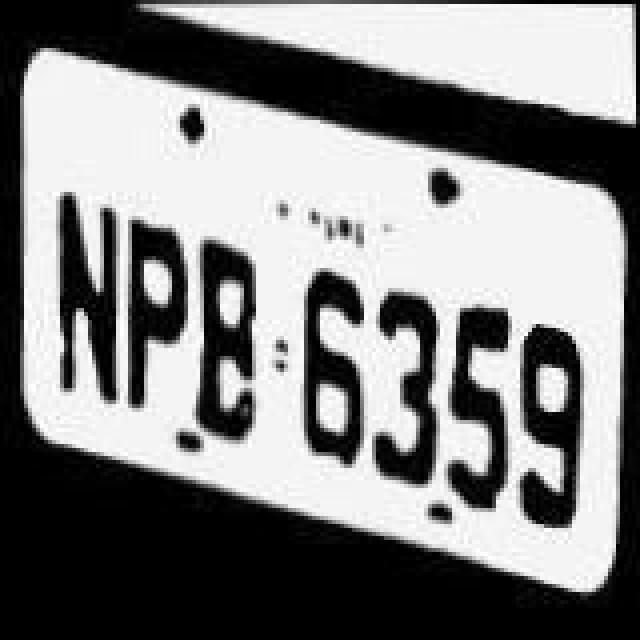3: (370, 260, 446, 492)
5: (444, 274, 520, 510)
6: (294, 254, 370, 486)
9: (506, 252, 586, 548)
B: (186, 228, 262, 452)
N: (50, 176, 126, 424)
P: (124, 206, 196, 422)
